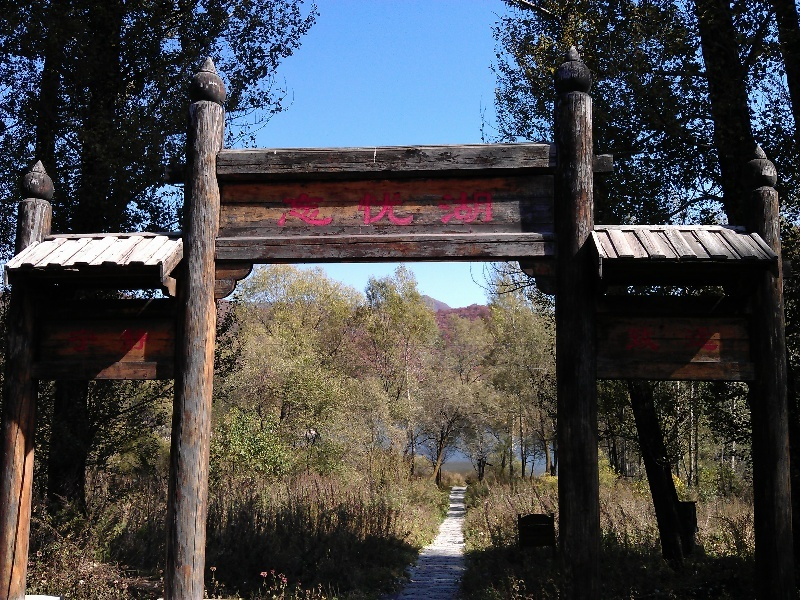text: (289, 190, 304, 227), (305, 190, 320, 227), (321, 190, 336, 227), (337, 190, 352, 227), (353, 190, 368, 227), (369, 190, 384, 227), (385, 190, 400, 227), (401, 190, 416, 227), (417, 190, 432, 227), (433, 190, 448, 227), (449, 190, 464, 227), (465, 190, 480, 227), (481, 190, 493, 227), (277, 190, 288, 227), (625, 326, 640, 352), (641, 326, 656, 352), (657, 326, 672, 352), (673, 326, 688, 352), (689, 326, 704, 352), (705, 326, 720, 352), (81, 328, 96, 352), (97, 328, 112, 352), (113, 328, 128, 352), (129, 328, 144, 352), (68, 328, 80, 352), (145, 328, 151, 352)
